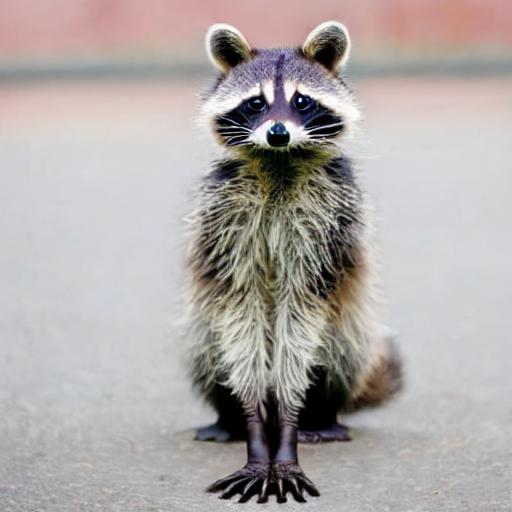raccoon: (177, 18, 414, 461)
